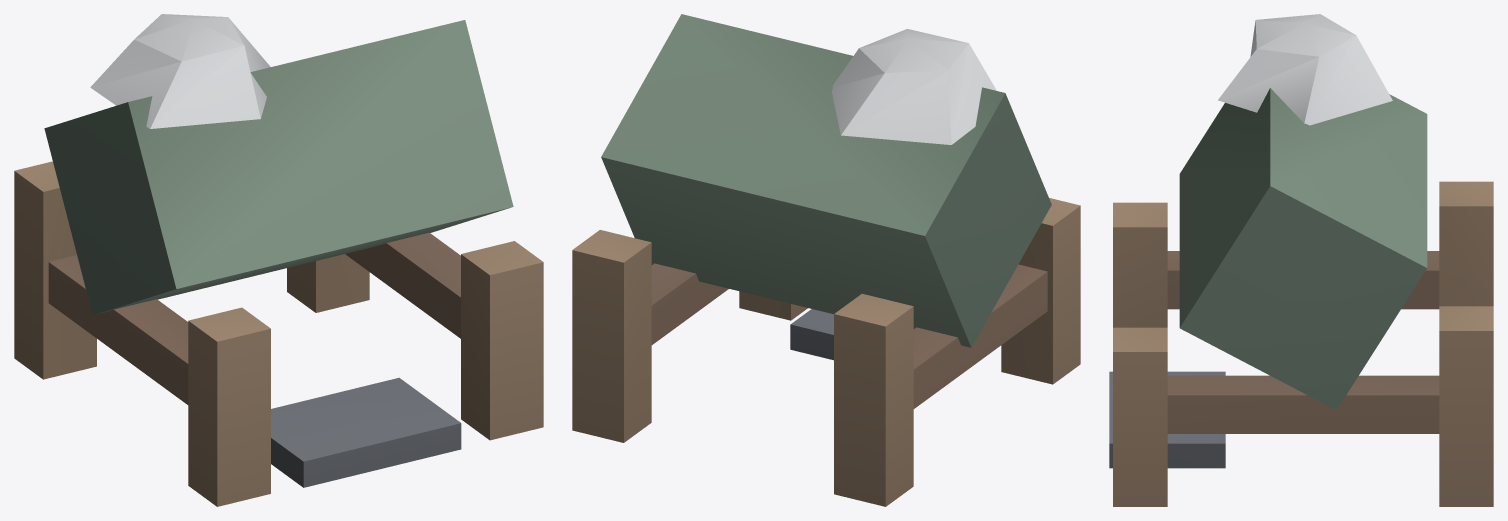
File: drum.lod2.glb
3 views of the same model, side by side, from view 1: azimuth 30°, elevation 25°; view 2: azimuth 150°, elevation 25°; view 3: azimuth 270°, elevation 25° (orthographic). The views are drawn at different scales.
Size of the model in its own units: 0.94 by 1.05 by 0.99.
